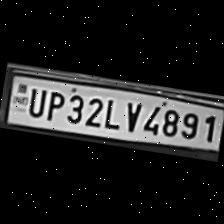1: (198, 111, 220, 144)
2: (81, 92, 105, 128)
3: (62, 89, 86, 125)
4: (138, 100, 162, 136)
8: (158, 104, 182, 138)
9: (176, 108, 200, 140)
L: (100, 95, 122, 131)
P: (40, 87, 64, 122)
U: (22, 84, 46, 119)
V: (118, 98, 144, 134)
